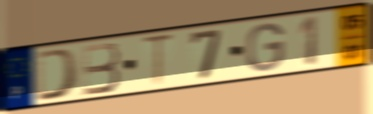1: (297, 13, 319, 69)
7: (188, 27, 226, 82)
B: (81, 41, 122, 98)
D: (35, 46, 81, 103)
G: (244, 21, 286, 74)
T: (140, 31, 178, 89)
